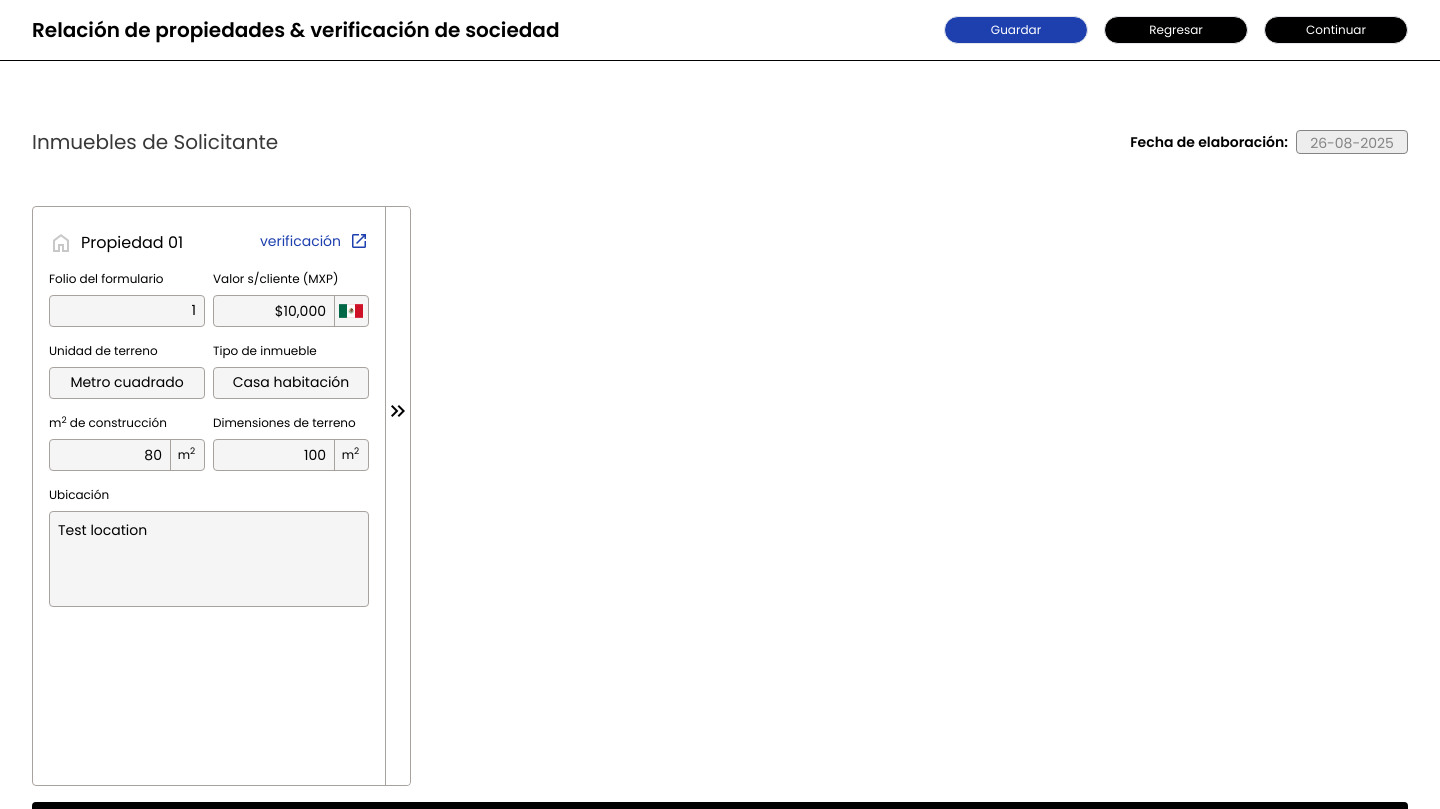
Test case: PropertyVerification › Profile Líder de Contraparte › it should display additional input fields when clicking the expand button when profile is LDC
Step 1. Click the 3rd icon "keyboard_double_arrow_right" → [398, 411], box [386, 399, 410, 423]
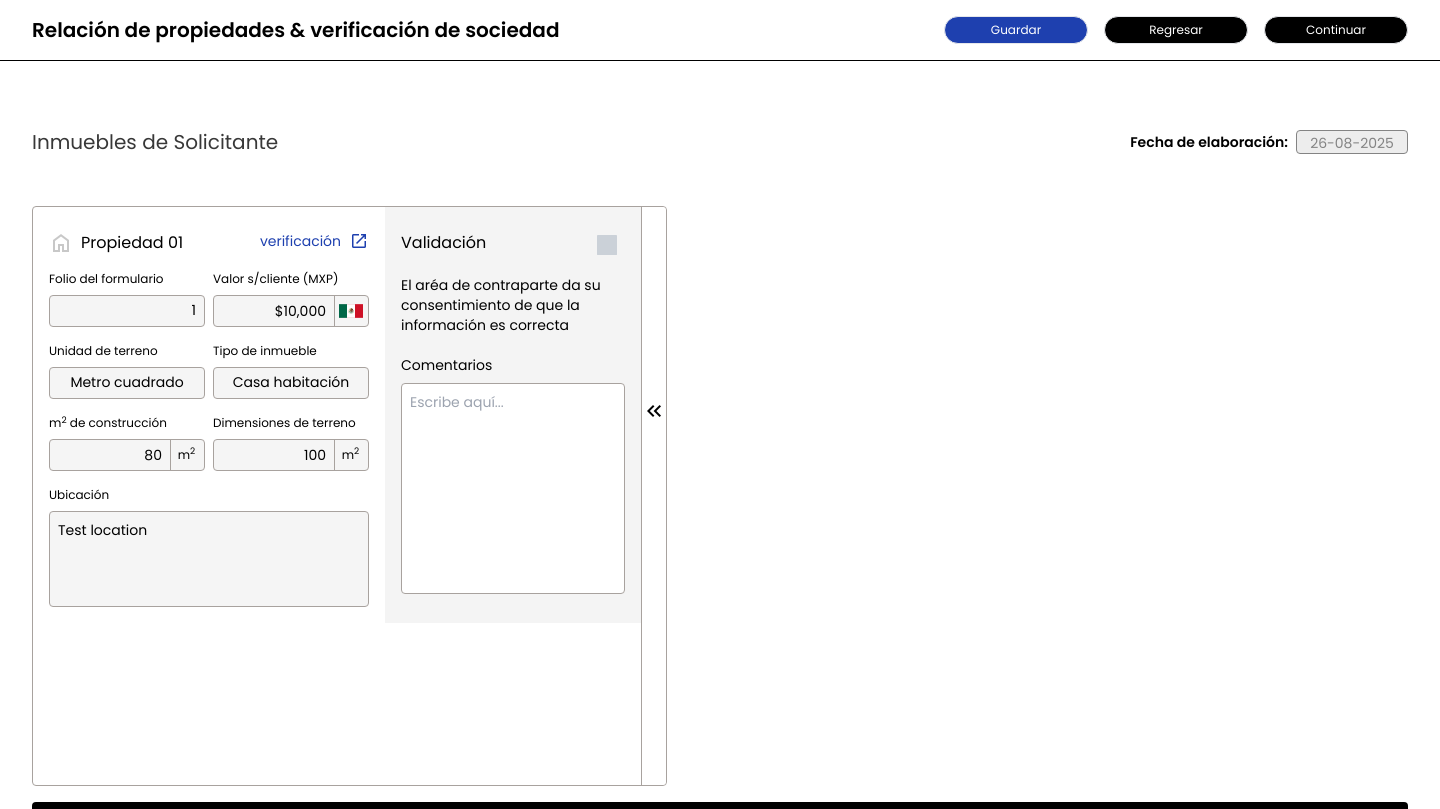
expect the text box labelled "Comentarios" is shown: met, box [401, 383, 625, 594]
